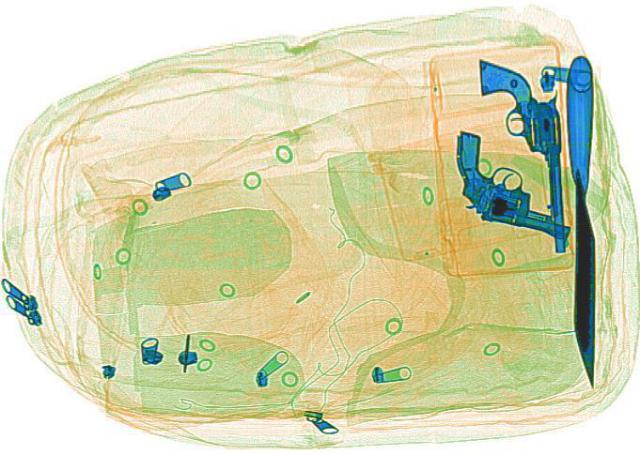Gun: (415, 129, 607, 240), (476, 57, 566, 252)
Knife: (558, 54, 606, 387)
